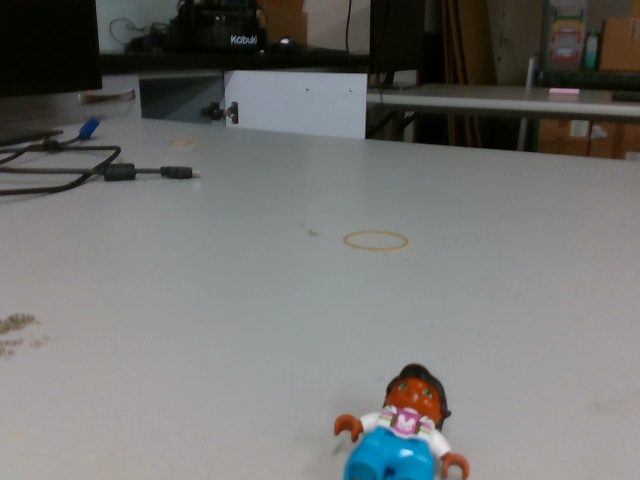people: (333, 361, 475, 480)
